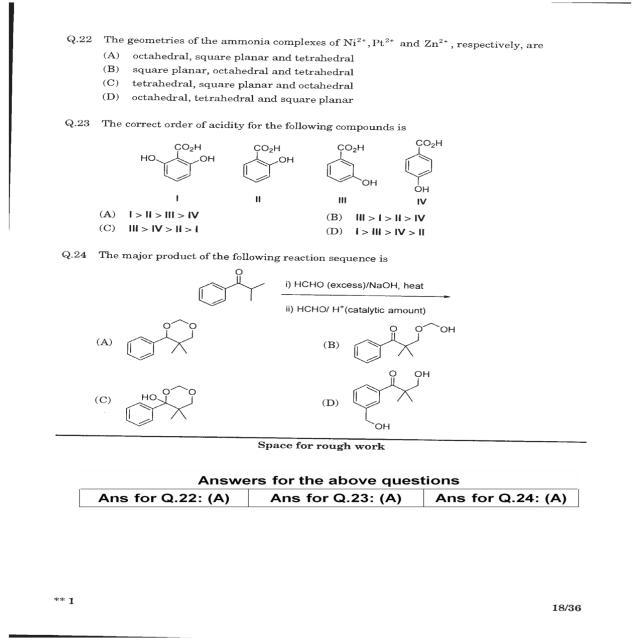Answer_Block: (55, 304, 588, 432), (52, 50, 584, 109), (53, 206, 586, 236)
Description: (48, 431, 581, 538)
Question_Answer_Block: (55, 240, 588, 434), (53, 113, 586, 239), (52, 15, 584, 116)
Question_Block: (53, 112, 586, 208), (55, 240, 588, 314), (52, 14, 584, 52)
Question_Paper_Area: (52, 14, 584, 591)
